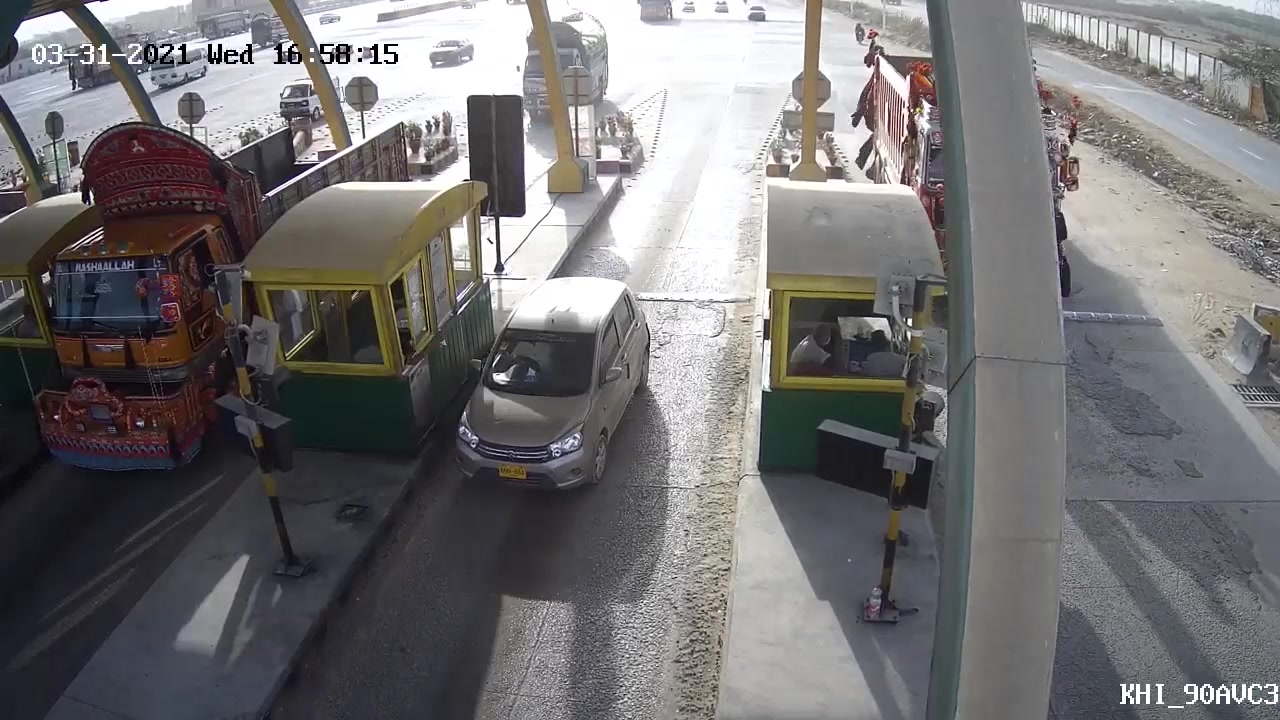F1: (451, 283, 651, 485)
